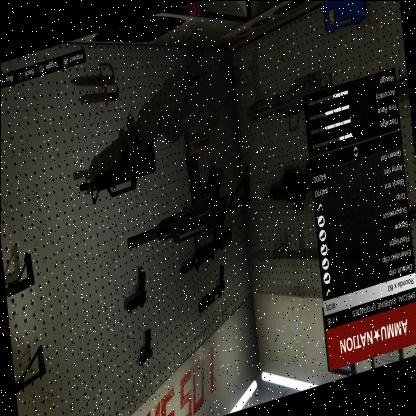rifle: (112, 142, 264, 266)
